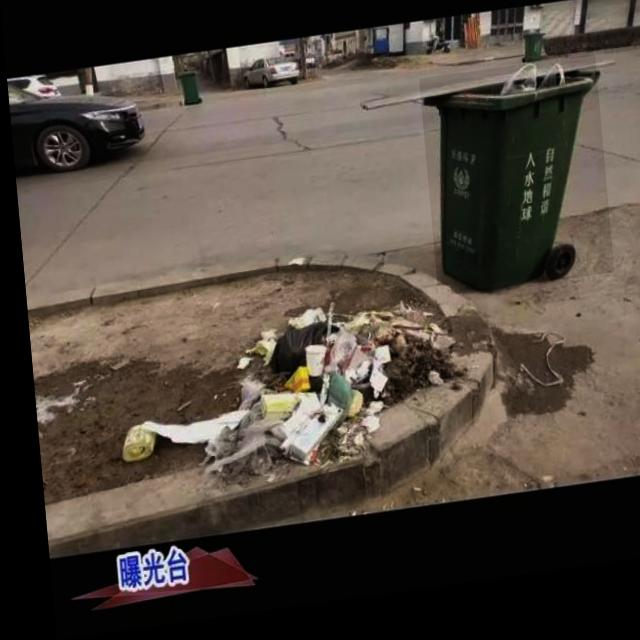garbage: (104, 298, 455, 494)
garbage_bin: (519, 46, 543, 76), (177, 75, 197, 109)
overflow: (417, 71, 608, 309)
